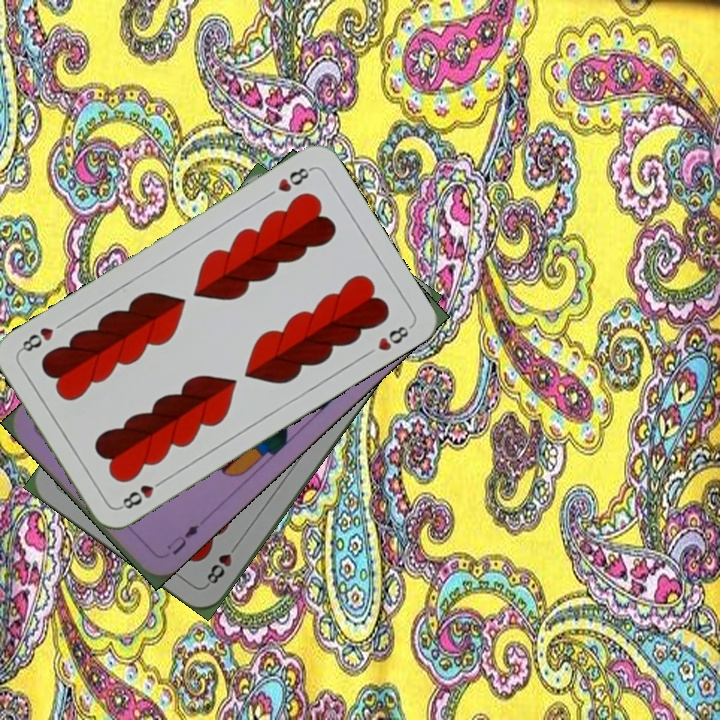EU: (162, 520, 202, 558)
H8: (202, 537, 242, 588), (115, 474, 168, 512), (273, 163, 315, 195)
